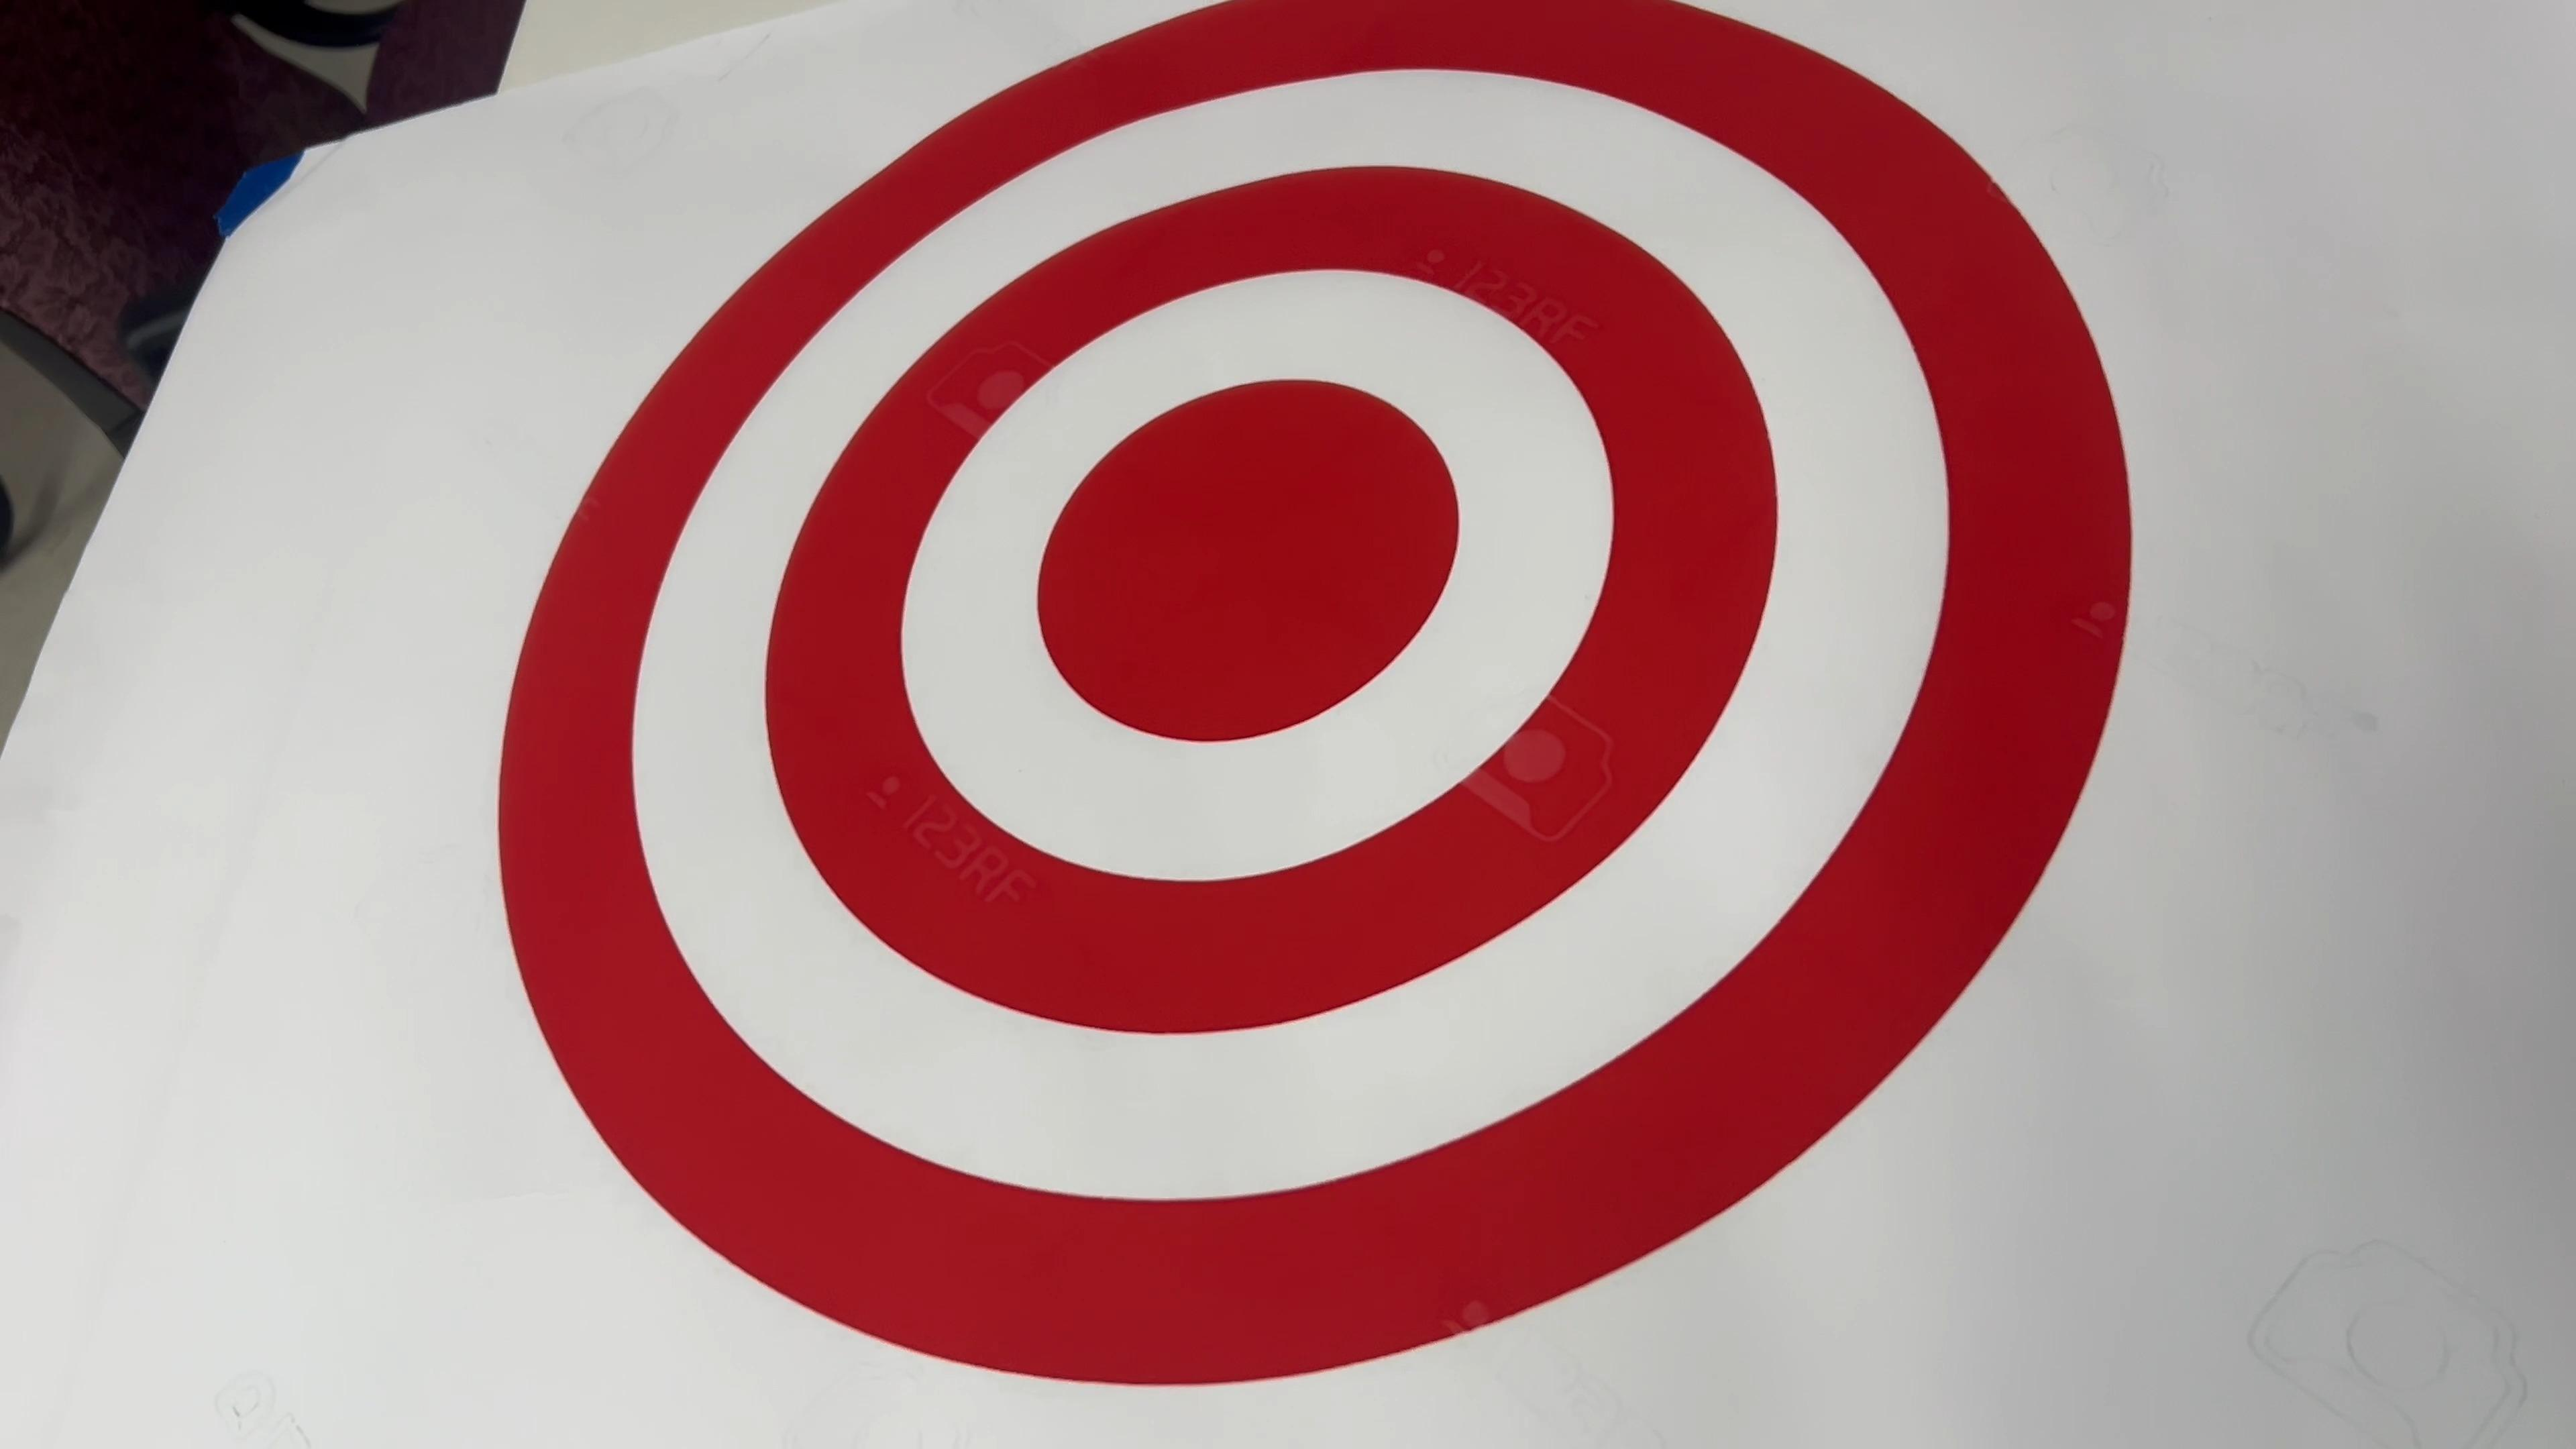target_red: (444, 0, 2197, 1449)
